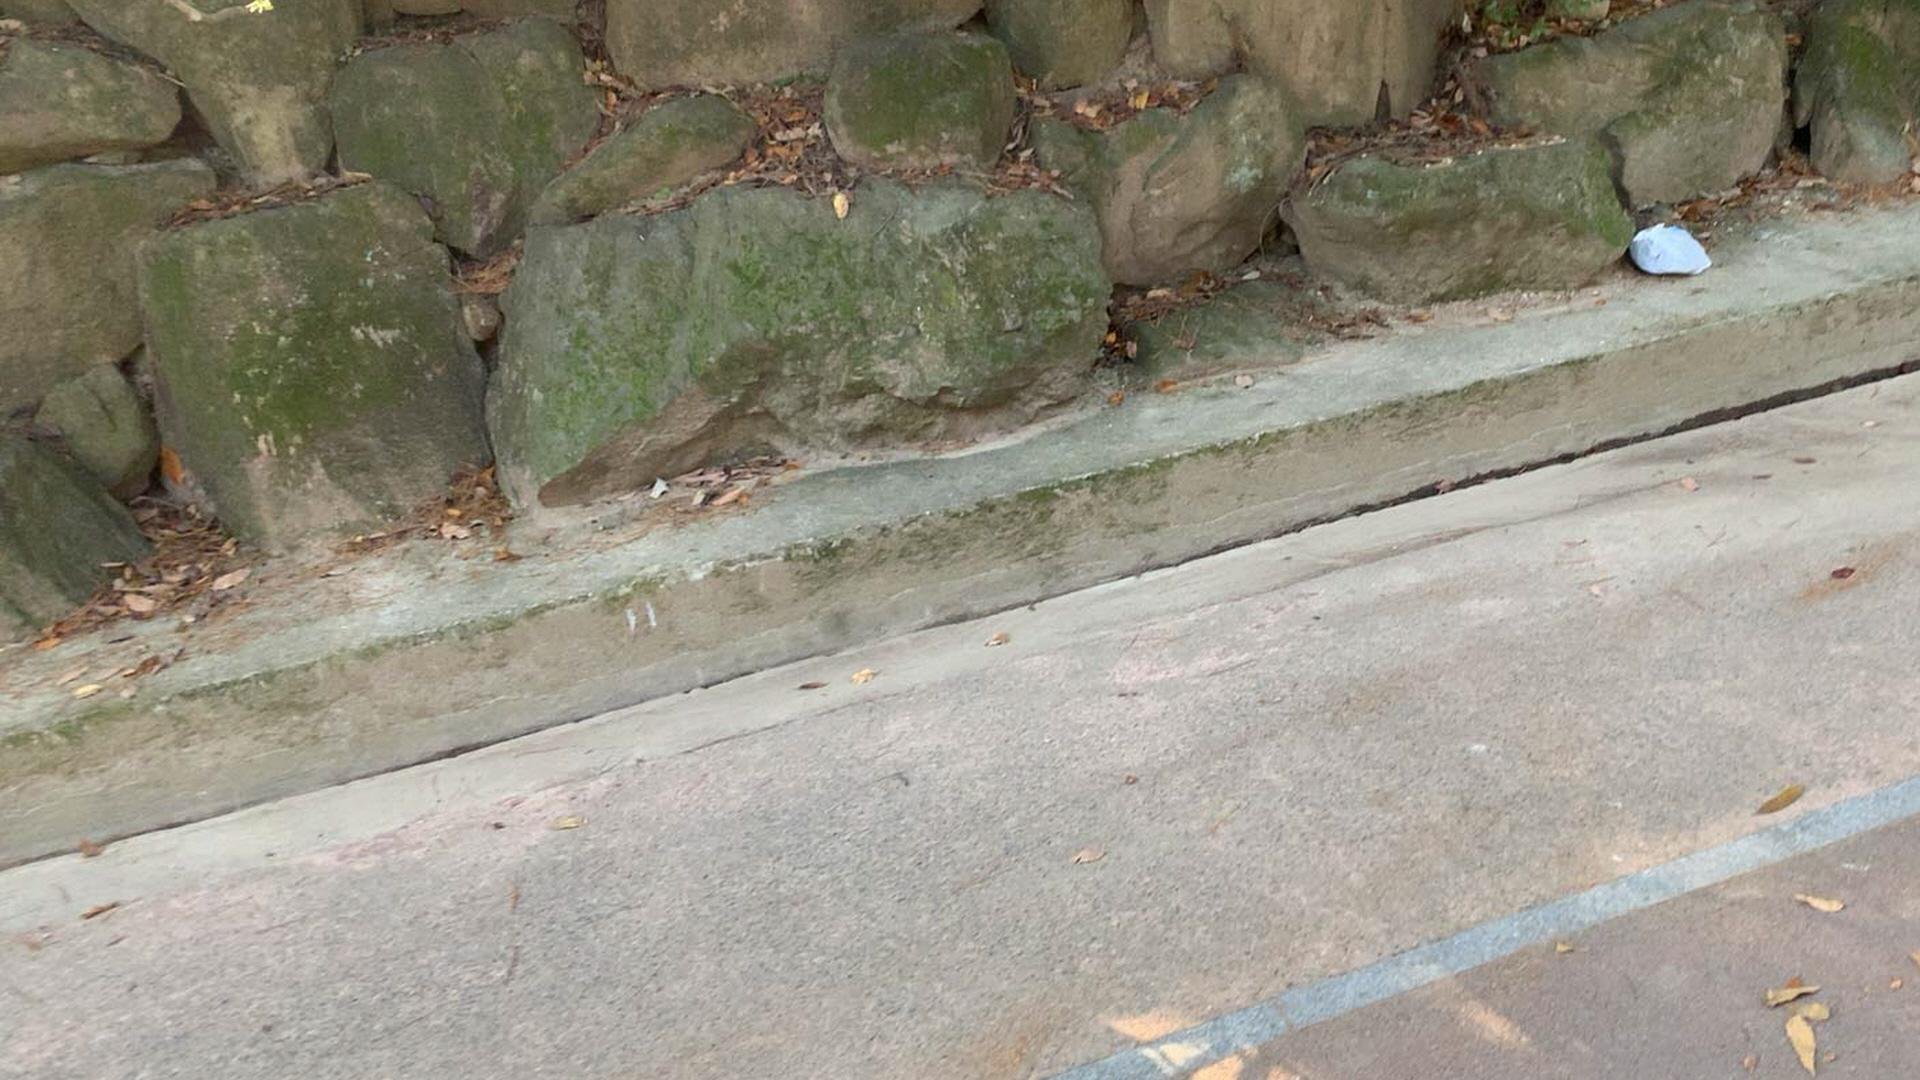white_bag: (1621, 222, 1716, 281)
